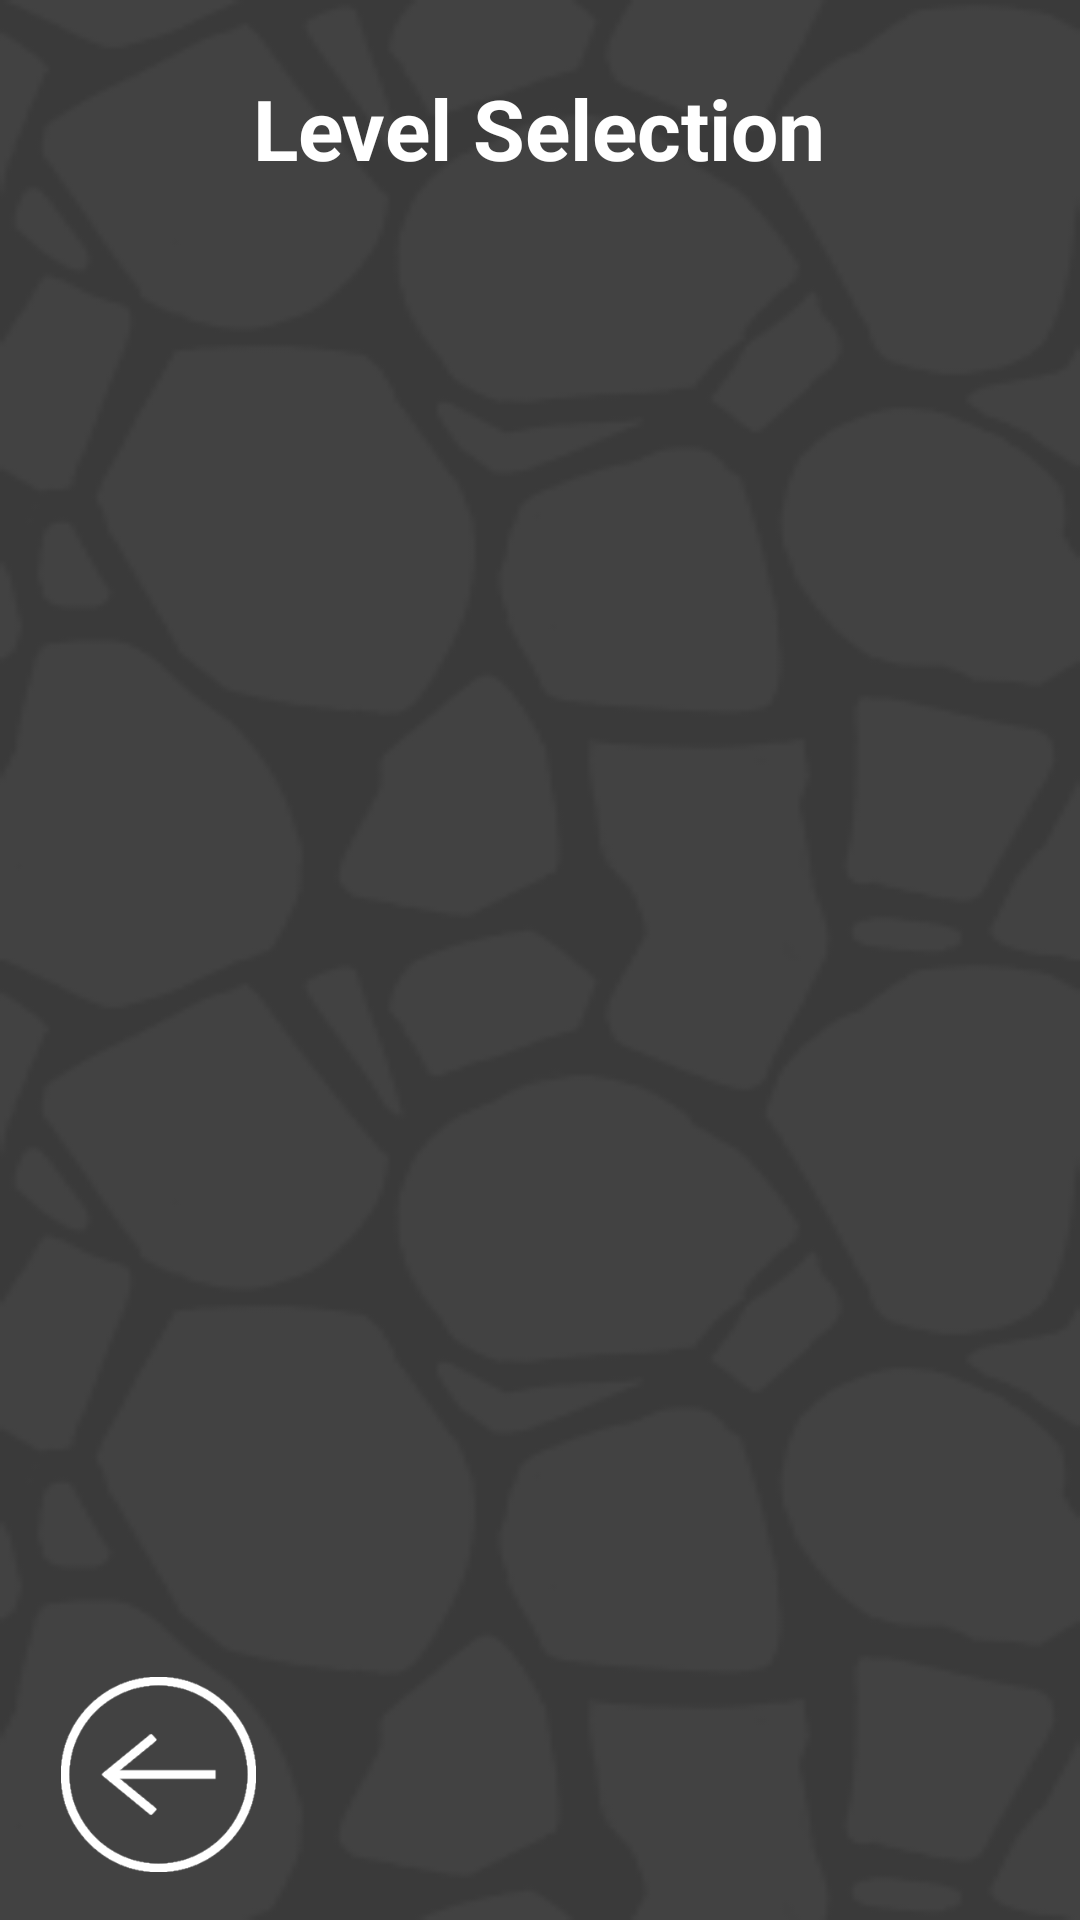

Locate icon controls on the screen. Image size 1080 x 1920, boxes as (x1, y1, x2, y2).
Go to menu: (61, 1677, 256, 1872)
